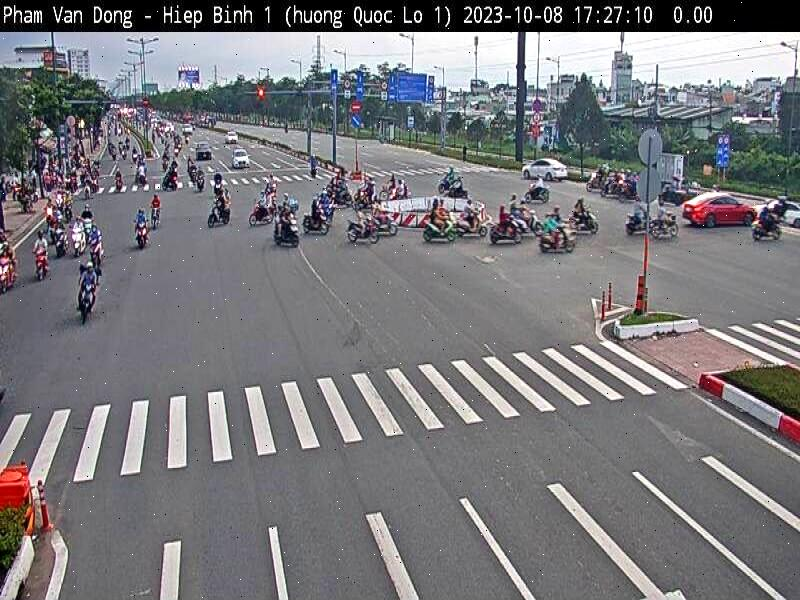car: (682, 194, 758, 228), (523, 159, 569, 182), (232, 150, 253, 169), (196, 143, 212, 161)
motorcycle: (412, 209, 462, 251), (69, 266, 101, 312), (346, 210, 382, 246), (200, 197, 238, 231), (570, 202, 598, 242), (539, 230, 574, 255), (467, 203, 491, 238), (488, 221, 523, 244), (29, 246, 54, 278), (656, 208, 678, 244), (304, 205, 326, 237), (134, 220, 148, 268), (622, 207, 644, 237), (0, 254, 16, 292), (276, 222, 301, 246), (252, 202, 271, 232)
